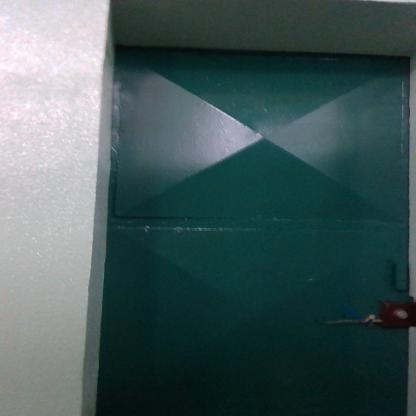closed: (78, 20, 414, 416)
